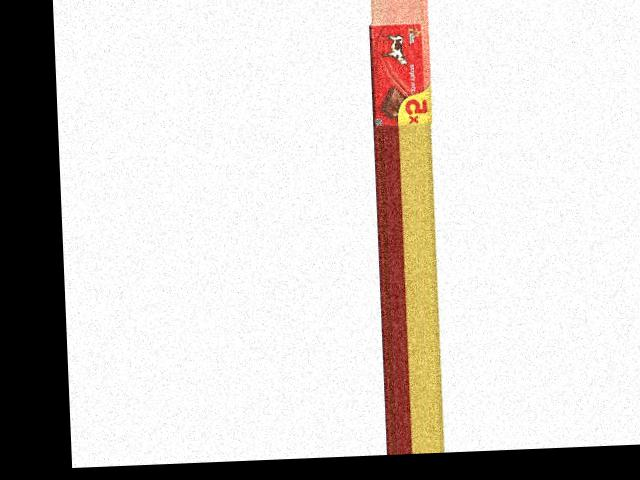chocolate: (369, 19, 434, 126)
